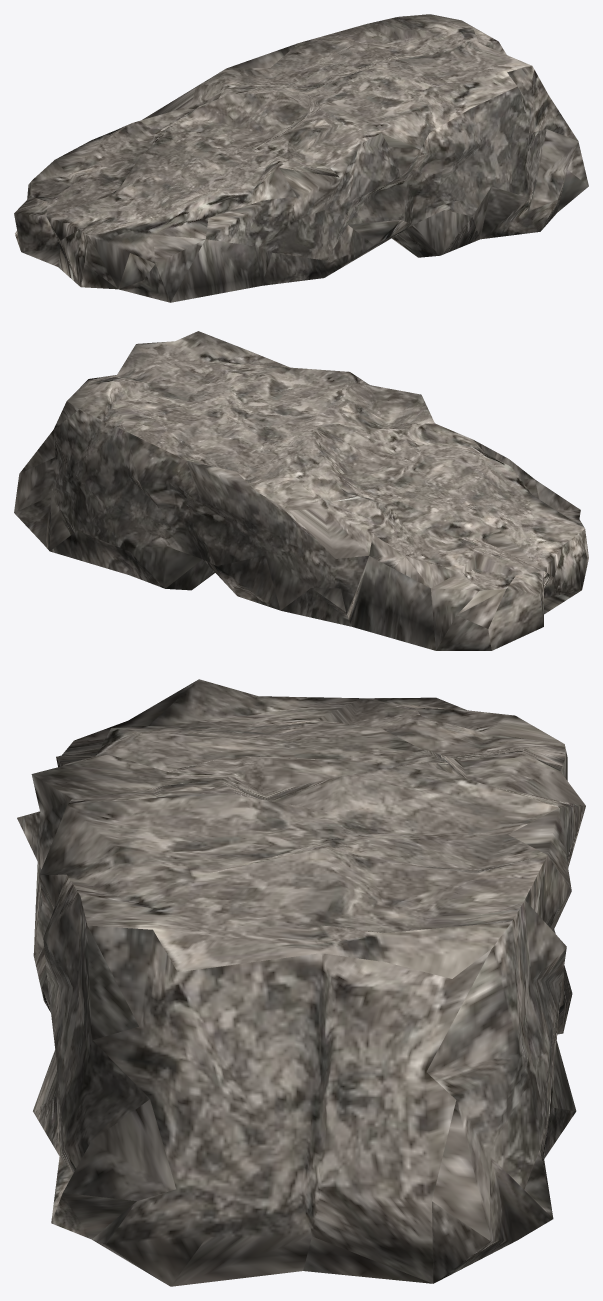
Rendered from slab_c_lod2.glb.
3 views of the same model, one above another, from view 1: azimuth 30°, elevation 25°; view 2: azimuth 150°, elevation 25°; view 3: azimuth 270°, elevation 25° (orthographic). The views are drawn at different scales.
Visible parts, largest first — view 1: slab_c_lod2; view 2: slab_c_lod2; view 3: slab_c_lod2.
Boxes of the visible parts, box(x1,y1,x2,y2) form: slab_c_lod2: box(14, 14, 588, 302); slab_c_lod2: box(14, 331, 588, 650); slab_c_lod2: box(17, 679, 585, 1286).
Bounding box in the file's own units: 8 × 2.2 × 3.92.
1 material, 1 textured.
